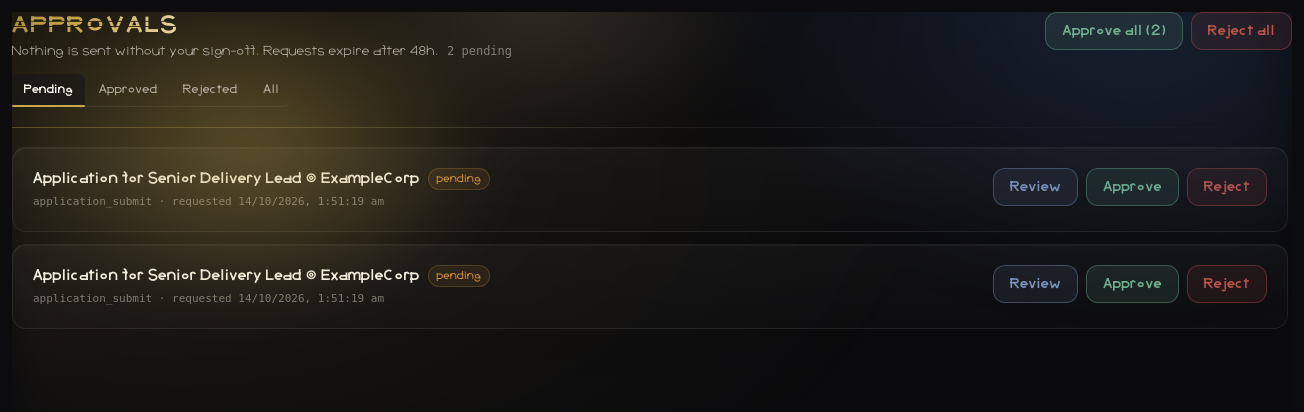
a failed send stays visible and is really retryable (MUST-FIX 2) › the bulk failure copy names the Retry send affordance, which is then on screen
The width and height of the screenshot is (1304, 412).
Click the button with test id "bulk-approve-btn" at point(1114, 31), box [1046, 12, 1183, 50]
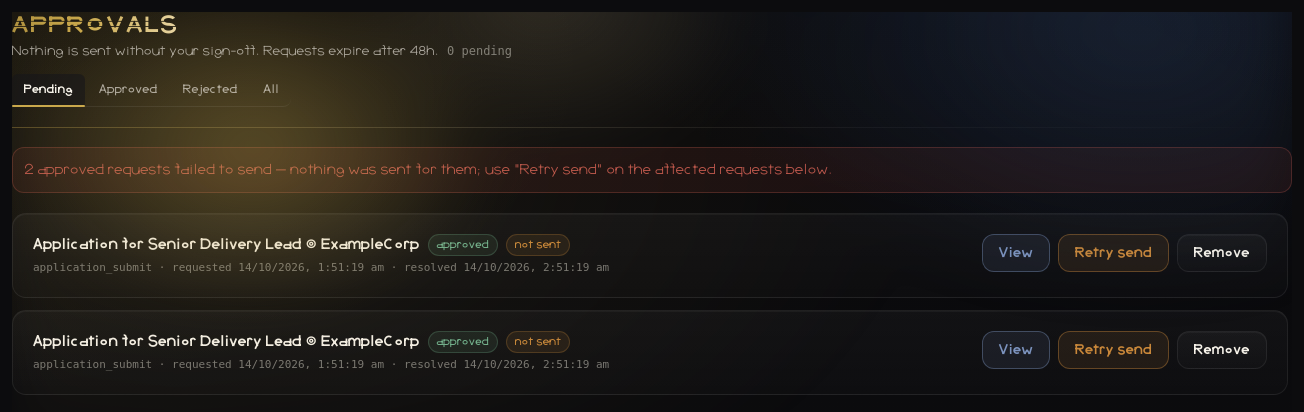
Result: the message shows "Retry send" at [25, 163, 833, 177]
Result: the number of buttons with test id "retry-send-btn" is 2 at [1058, 234, 1169, 272]; [1058, 331, 1169, 369]
Result: the number of elements with test id "unsent-badge" is 2 at [506, 234, 570, 256]; [506, 331, 570, 353]
